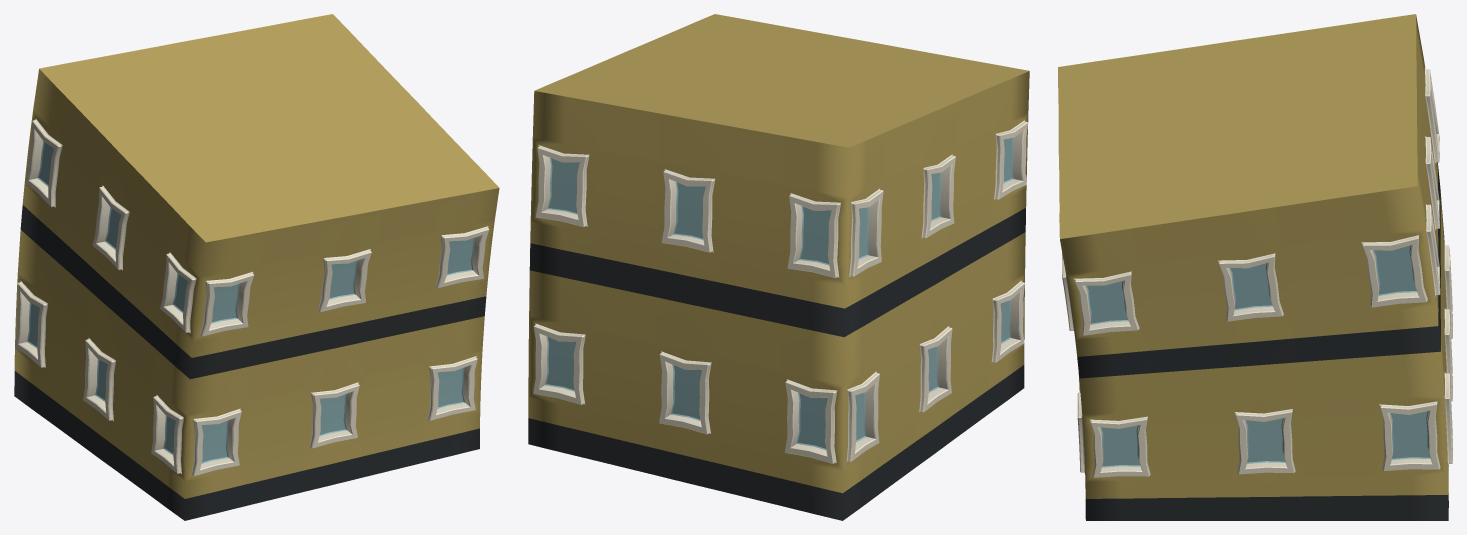
The model's file is Tentacule_Building_001.FBX.
The picture shows the model from 3 angles, left to right: view 1: azimuth 30°, elevation 25°; view 2: azimuth 150°, elevation 25°; view 3: azimuth 270°, elevation 25°; orthographic projection. The views are drawn at different scales.
Parts seen in each view (by area): view 1: Tentacule_Building_006; view 2: Tentacule_Building_006; view 3: Tentacule_Building_006.
Boxes of the visible parts, x1,y1,x2,y2 form: Tentacule_Building_006: (14,14,499,520); Tentacule_Building_006: (528,14,1029,520); Tentacule_Building_006: (1058,14,1452,520).
Size of the model in its own units: 175 by 182 by 181.
